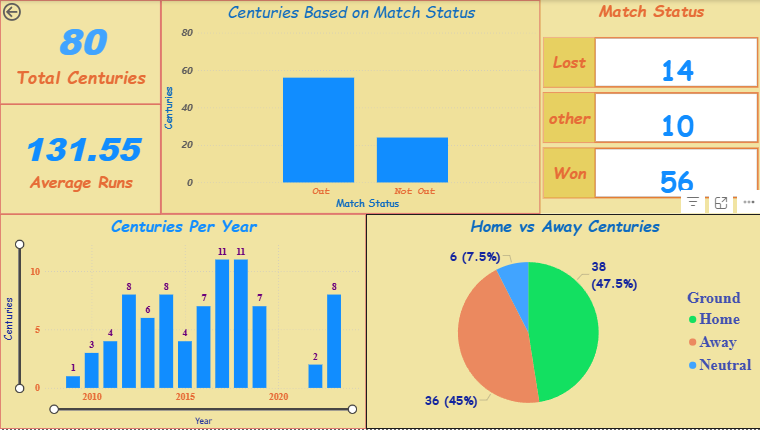

This screenshot's page, from the dashboard's own definition file:
{"tool":"powerbi","page":{"name":"Page 1","canvas":[1280,720],"ordinal":0},"visuals":[{"type":"card","fields":{"Values":["CountNonNull(Cleaned_file.Runs)"]},"box":[0,0,270.4,174.7],"z":0},{"type":"clusteredColumnChart","title":"Centuries Based on Match Status","fields":{"Y":["CountNonNull(Cleaned_file.Runs)"],"Category":["Cleaned_file.Not_out_or_out"]},"box":[270.4,0,636.6,359.5],"z":1000},{"type":"actionButton","box":[0,0,100,40],"z":3000},{"type":"card","fields":{"Values":["Avg(Cleaned_file.Runs)"]},"box":[0,174.7,270.4,184.8],"z":3001},{"type":"cardVisual","title":"Match Status","fields":{"Rows":["Cleaned_file.Result"],"Data":["CountNonNull(Cleaned_file.Innings)"]},"box":[907.1,0,372.9,359.5],"z":3002},{"type":"clusteredColumnChart","title":"Centuries Per Year","fields":{"Category":["Cleaned_file.year"],"Y":["CountNonNull(Cleaned_file.Runs)"]},"box":[0,359.5,614.8,361.2],"z":3003},{"type":"pieChart","title":"Home vs Away Centuries","fields":{"Category":["Cleaned_file.Ground"],"Y":["CountNonNull(Cleaned_file.Runs)"]},"box":[614.8,359.5,665.2,361.2],"z":3004}]}

Visuals, with their boxes in screenshot pixels (x1, y1, x2, y2), scaled from the page's 1280x720 canvas onto the 760x430 screenshot:
card - CountNonNull(Cleaned_file.Runs): [left=0, top=0, right=161, bottom=104]
"Centuries Based on Match Status" clusteredColumnChart: [left=161, top=0, right=539, bottom=215]
actionButton: [left=0, top=0, right=59, bottom=24]
card - Avg(Cleaned_file.Runs): [left=0, top=104, right=161, bottom=215]
"Match Status" cardVisual: [left=539, top=0, right=759, bottom=215]
"Centuries Per Year" clusteredColumnChart: [left=0, top=215, right=365, bottom=429]
"Home vs Away Centuries" pieChart: [left=365, top=215, right=759, bottom=429]
